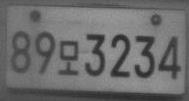2: (109, 33, 130, 77)
3: (83, 33, 106, 76), (134, 35, 156, 79)
4: (157, 35, 181, 80)
8: (9, 29, 31, 73)
9: (34, 30, 56, 75)
모: (58, 40, 78, 75)
